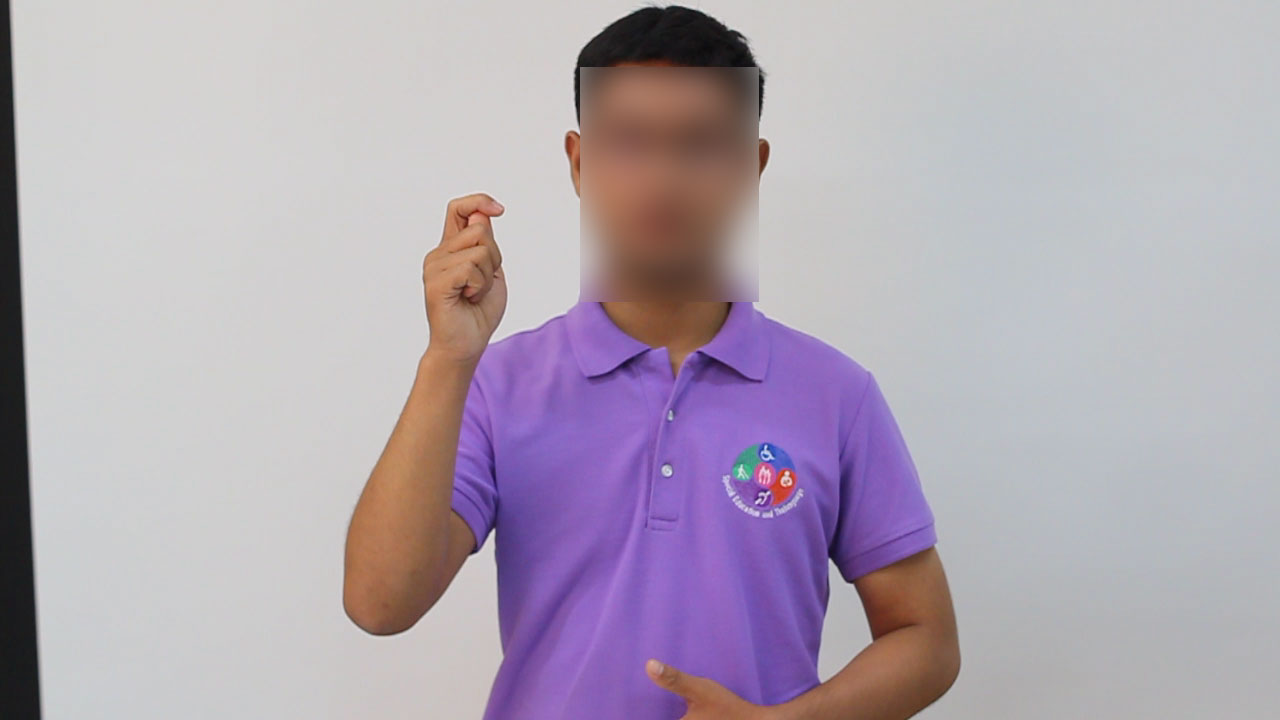or: (418, 179, 516, 377)
